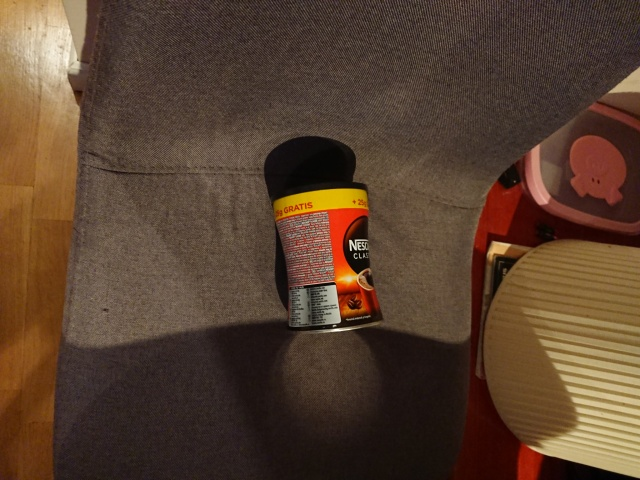Nescafe Classic 225g: (267, 179, 388, 339)
